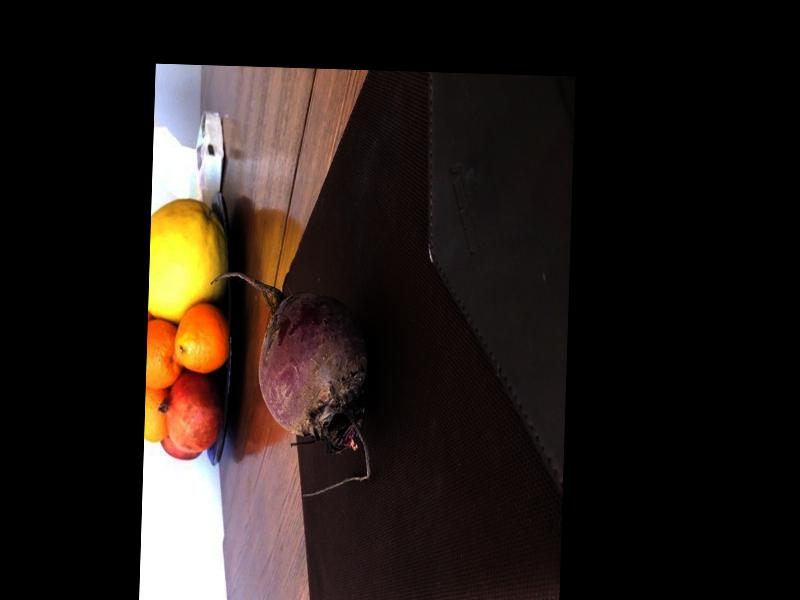Beet: (203, 269, 376, 499)
